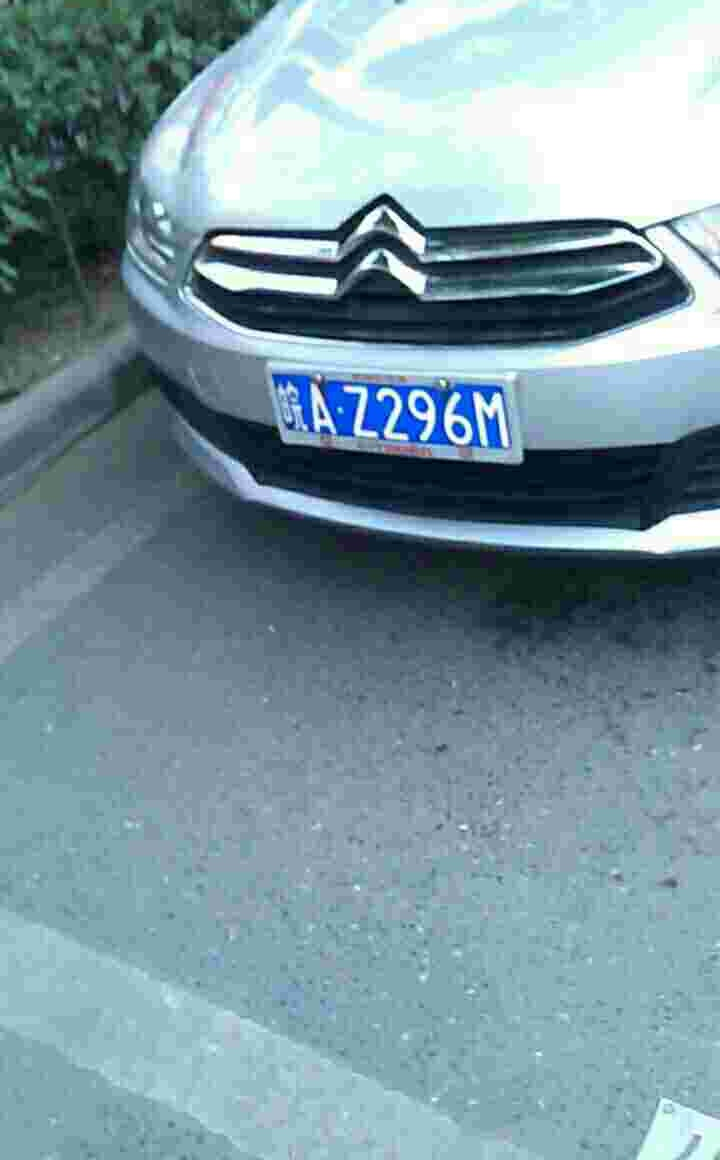plate: (259, 363, 525, 463)
